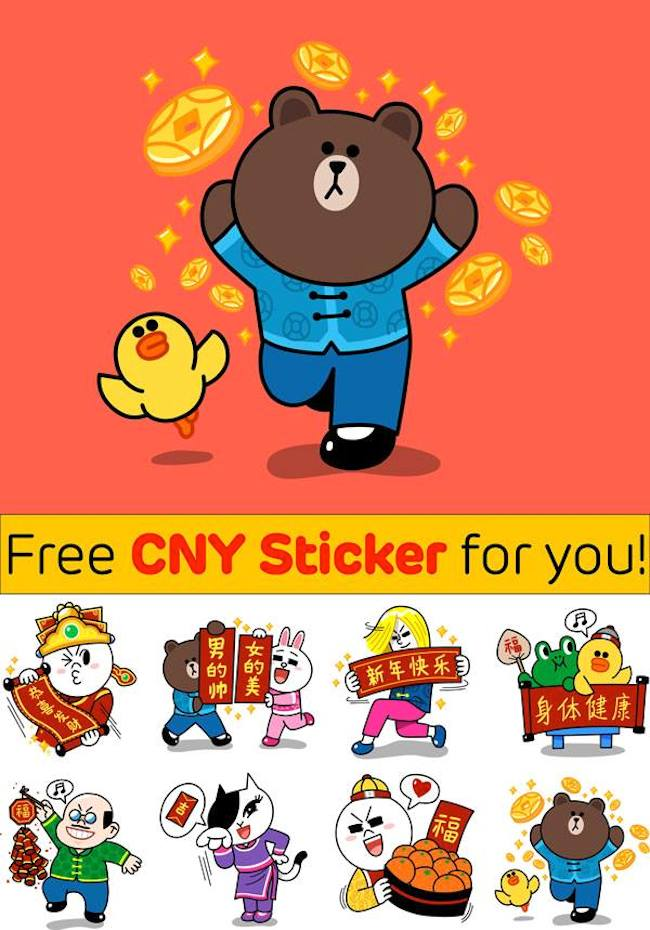line_brown: (226, 81, 441, 292)
